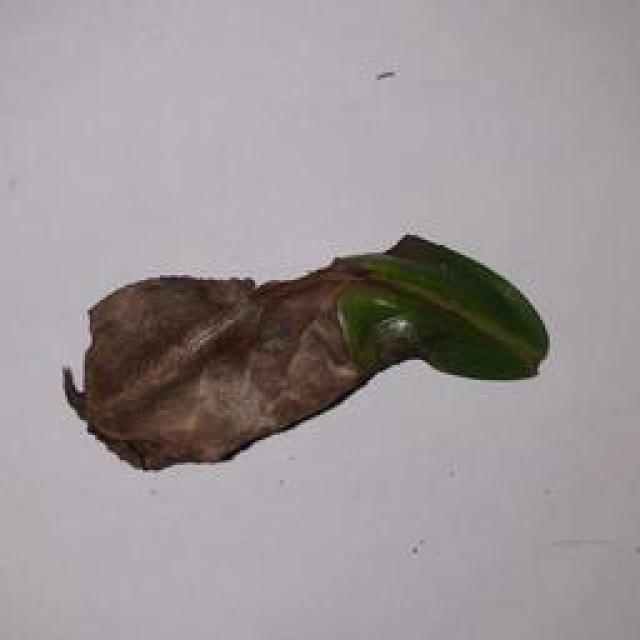Brown Blight: (47, 227, 572, 473)
